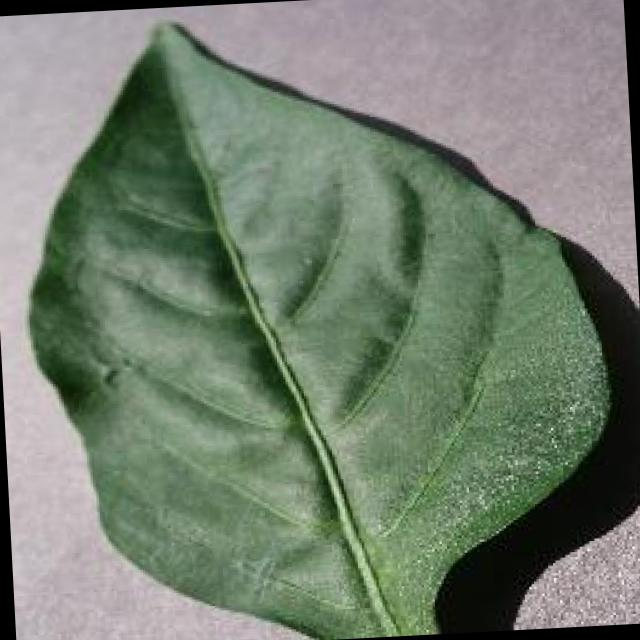Chilli_Healthy: (9, 0, 626, 640)
